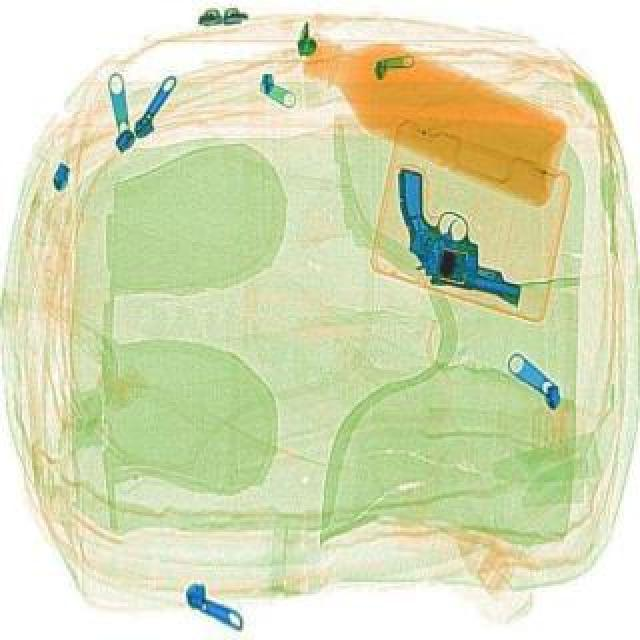gun: (374, 172, 546, 308)
